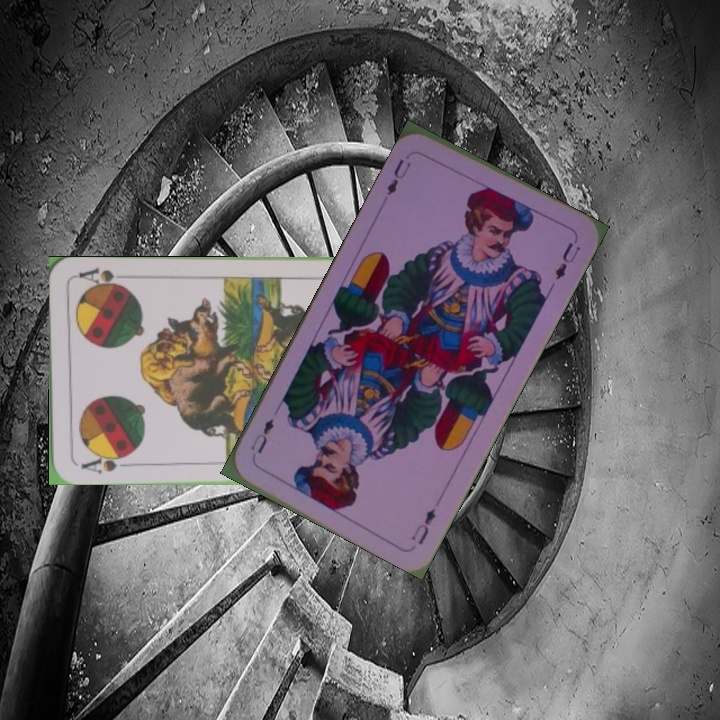EU: (382, 154, 414, 199), (406, 504, 439, 547)
SA: (76, 449, 132, 476)
